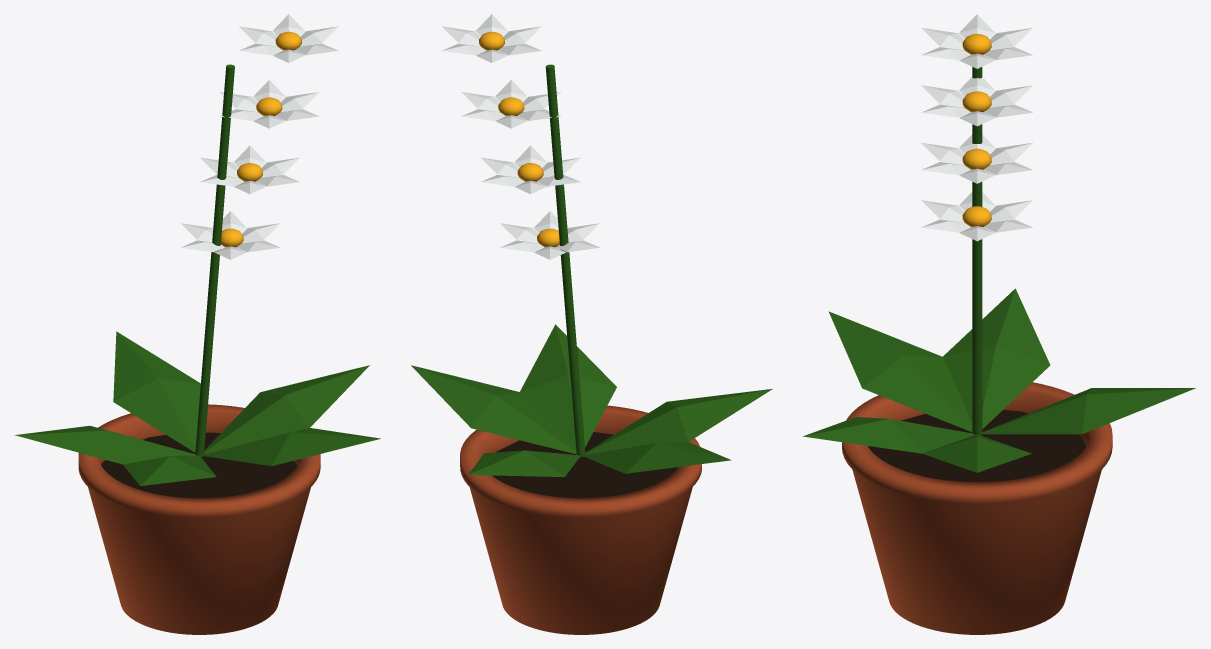
File: Orchidea_cserepben.obj
3 renders of one model, left to right at view 1: azimuth 30°, elevation 25°; view 2: azimuth 150°, elevation 25°; view 3: azimuth 270°, elevation 25°, orthographic. The views are drawn at different scales.
Size of the model in its own units: 0.4366 by 0.6732 by 0.3937.
